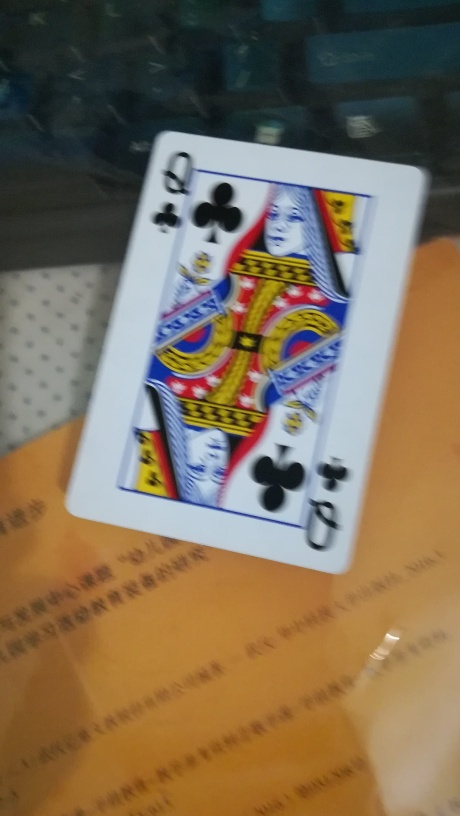mh q: (64, 130, 426, 572)
